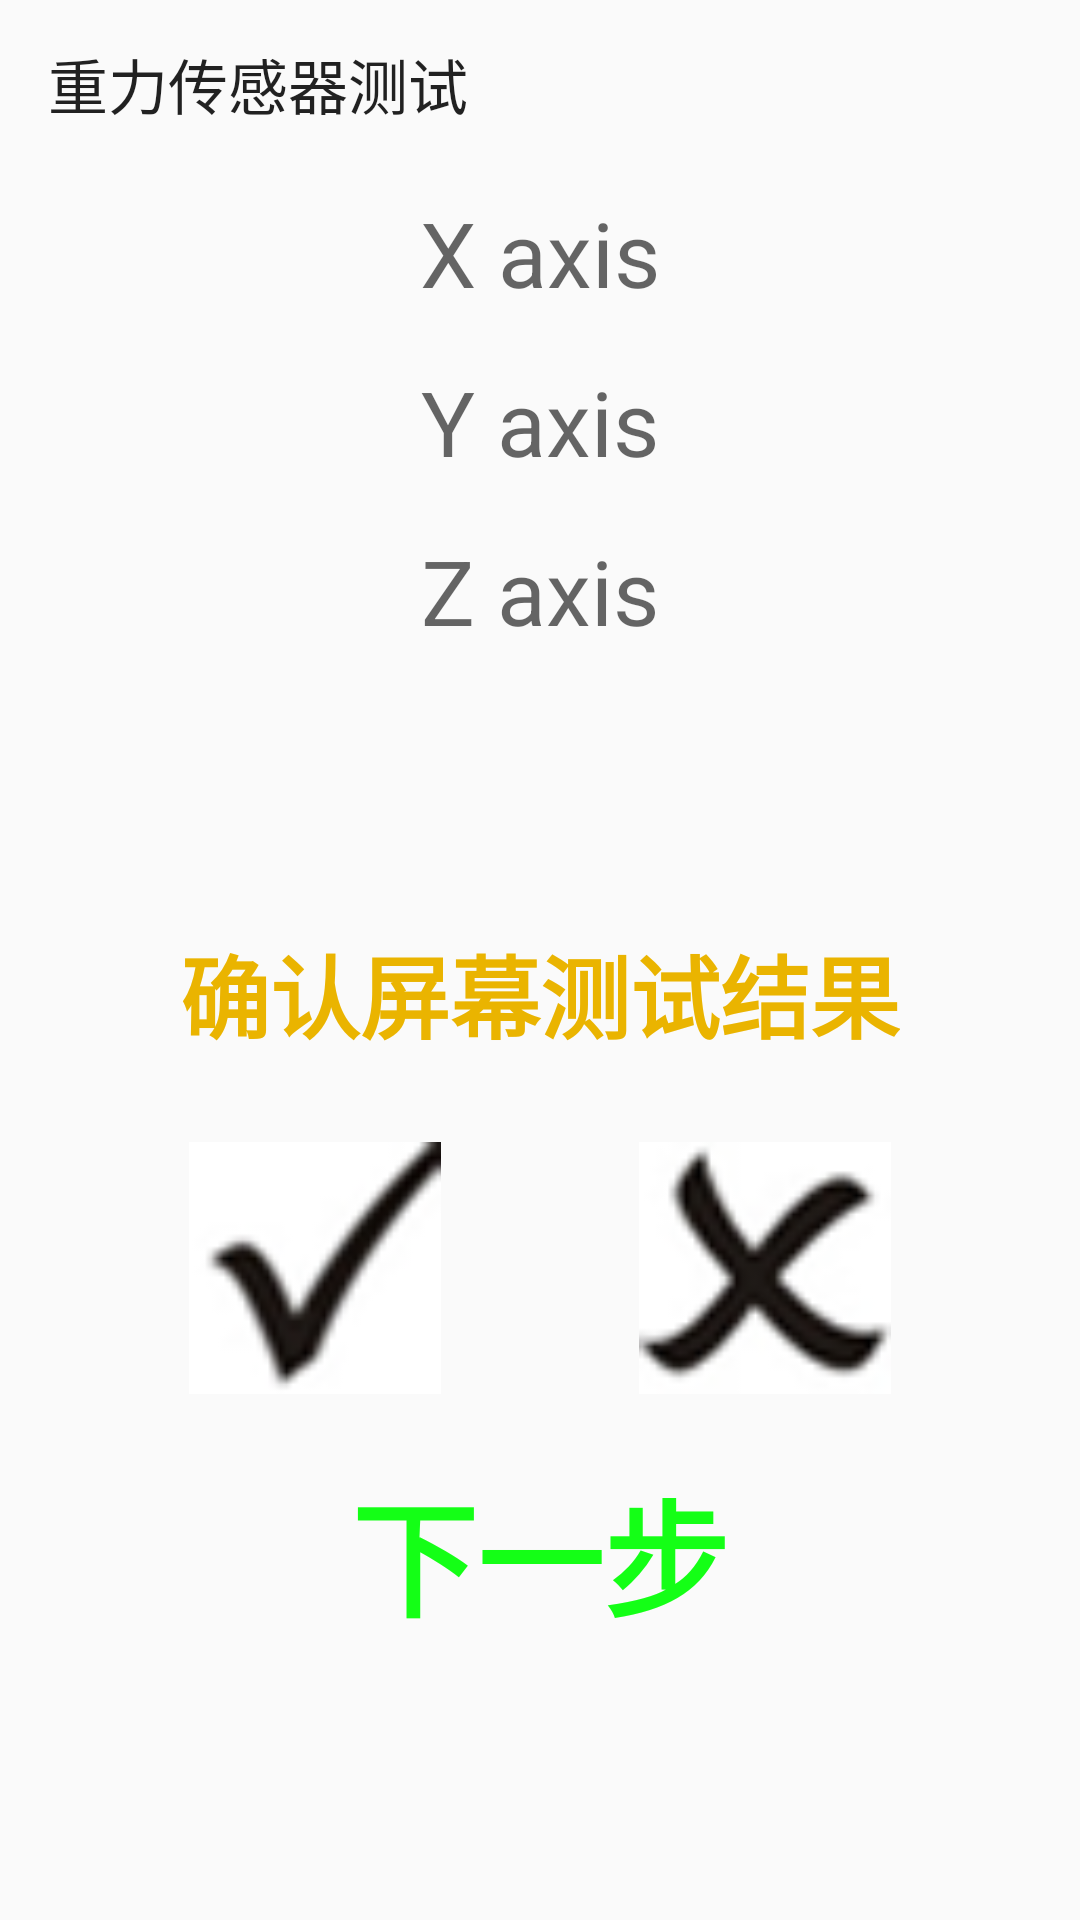

Screen size 1080px x 1920px. Icon name, then its box in pixels as [left=x1, top=y1, right=x2, bottom=y2]:
check cross: [left=639, top=1150, right=888, bottom=1377]
check ok: [left=209, top=1142, right=441, bottom=1384]
